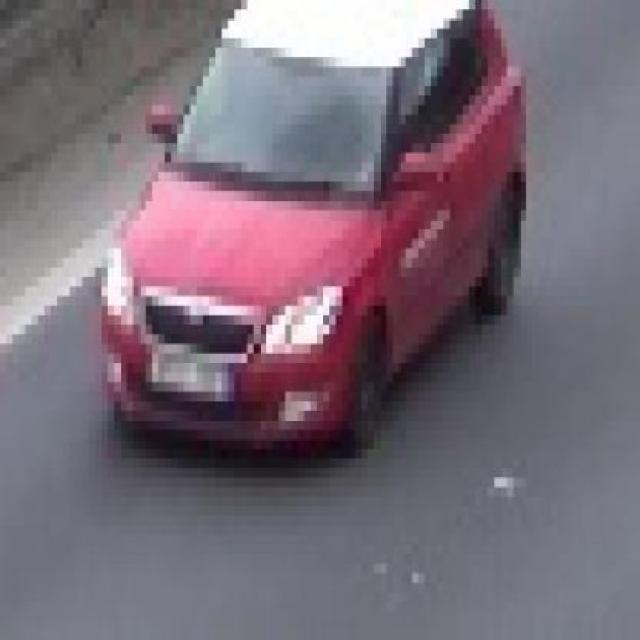vehicle: (94, 0, 534, 466)
